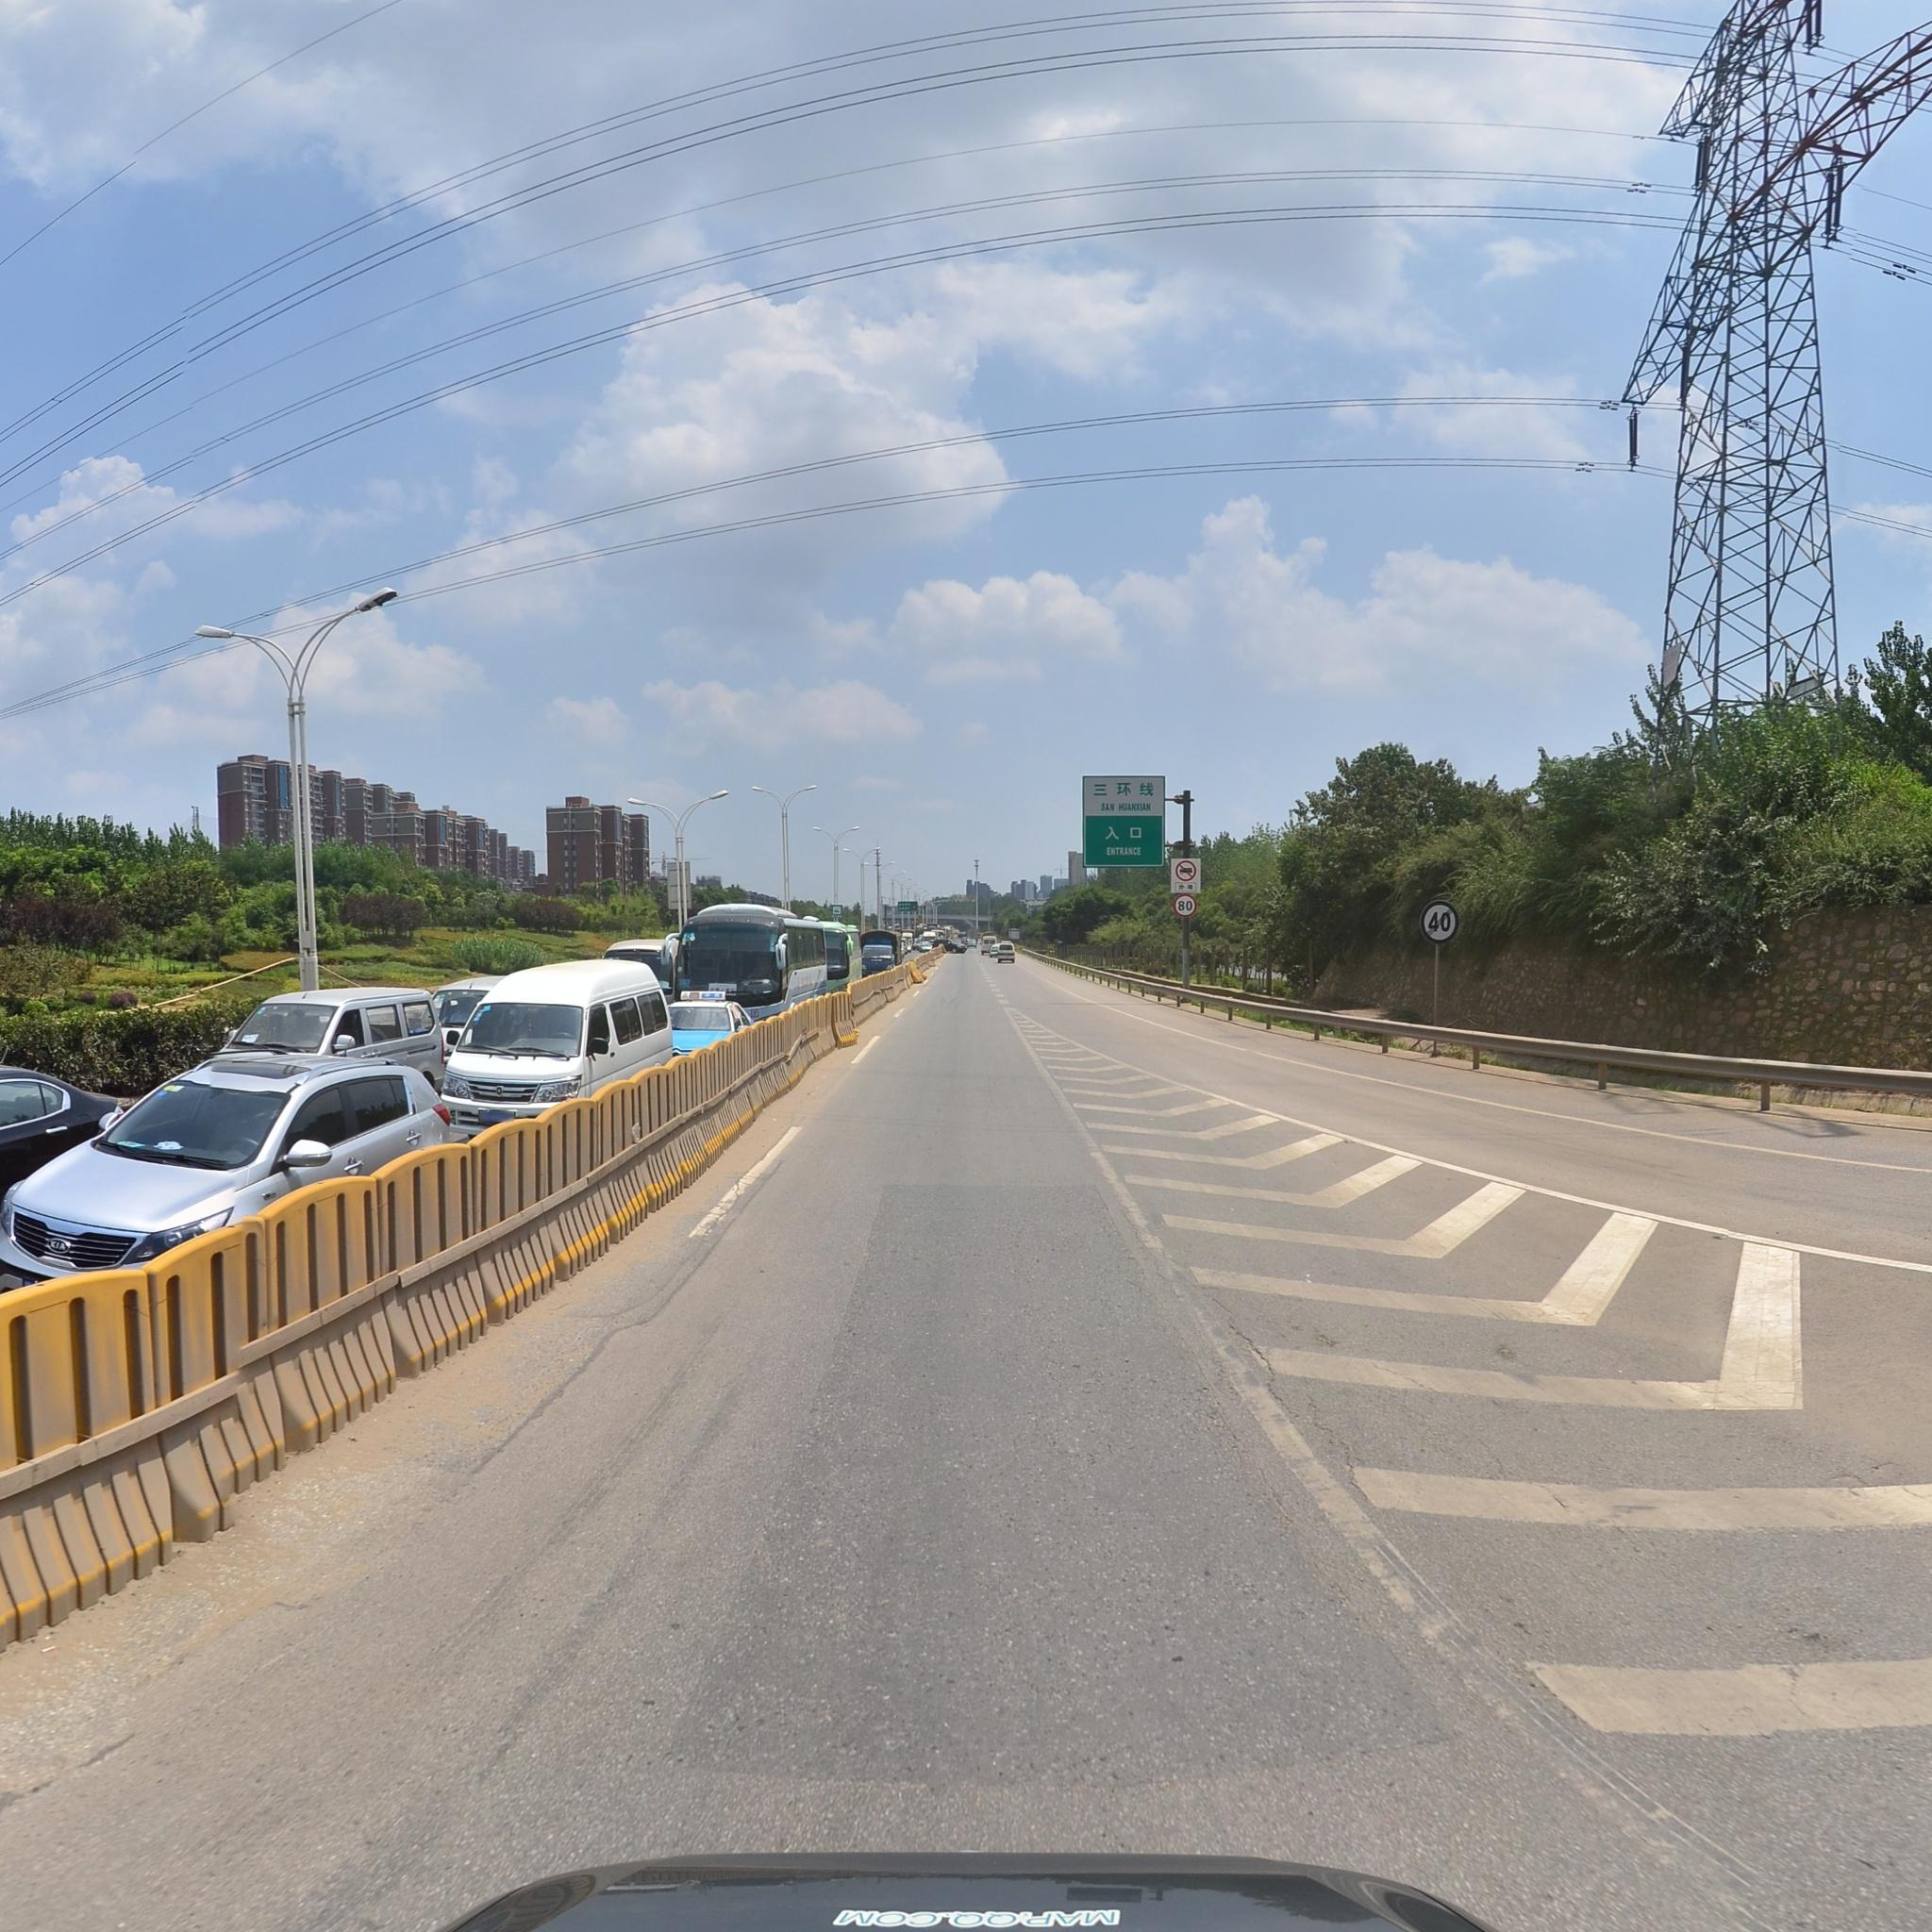p26: (1173, 860, 1198, 883)
pl80: (1177, 893, 1194, 916)
pr40: (1419, 899, 1458, 943)
